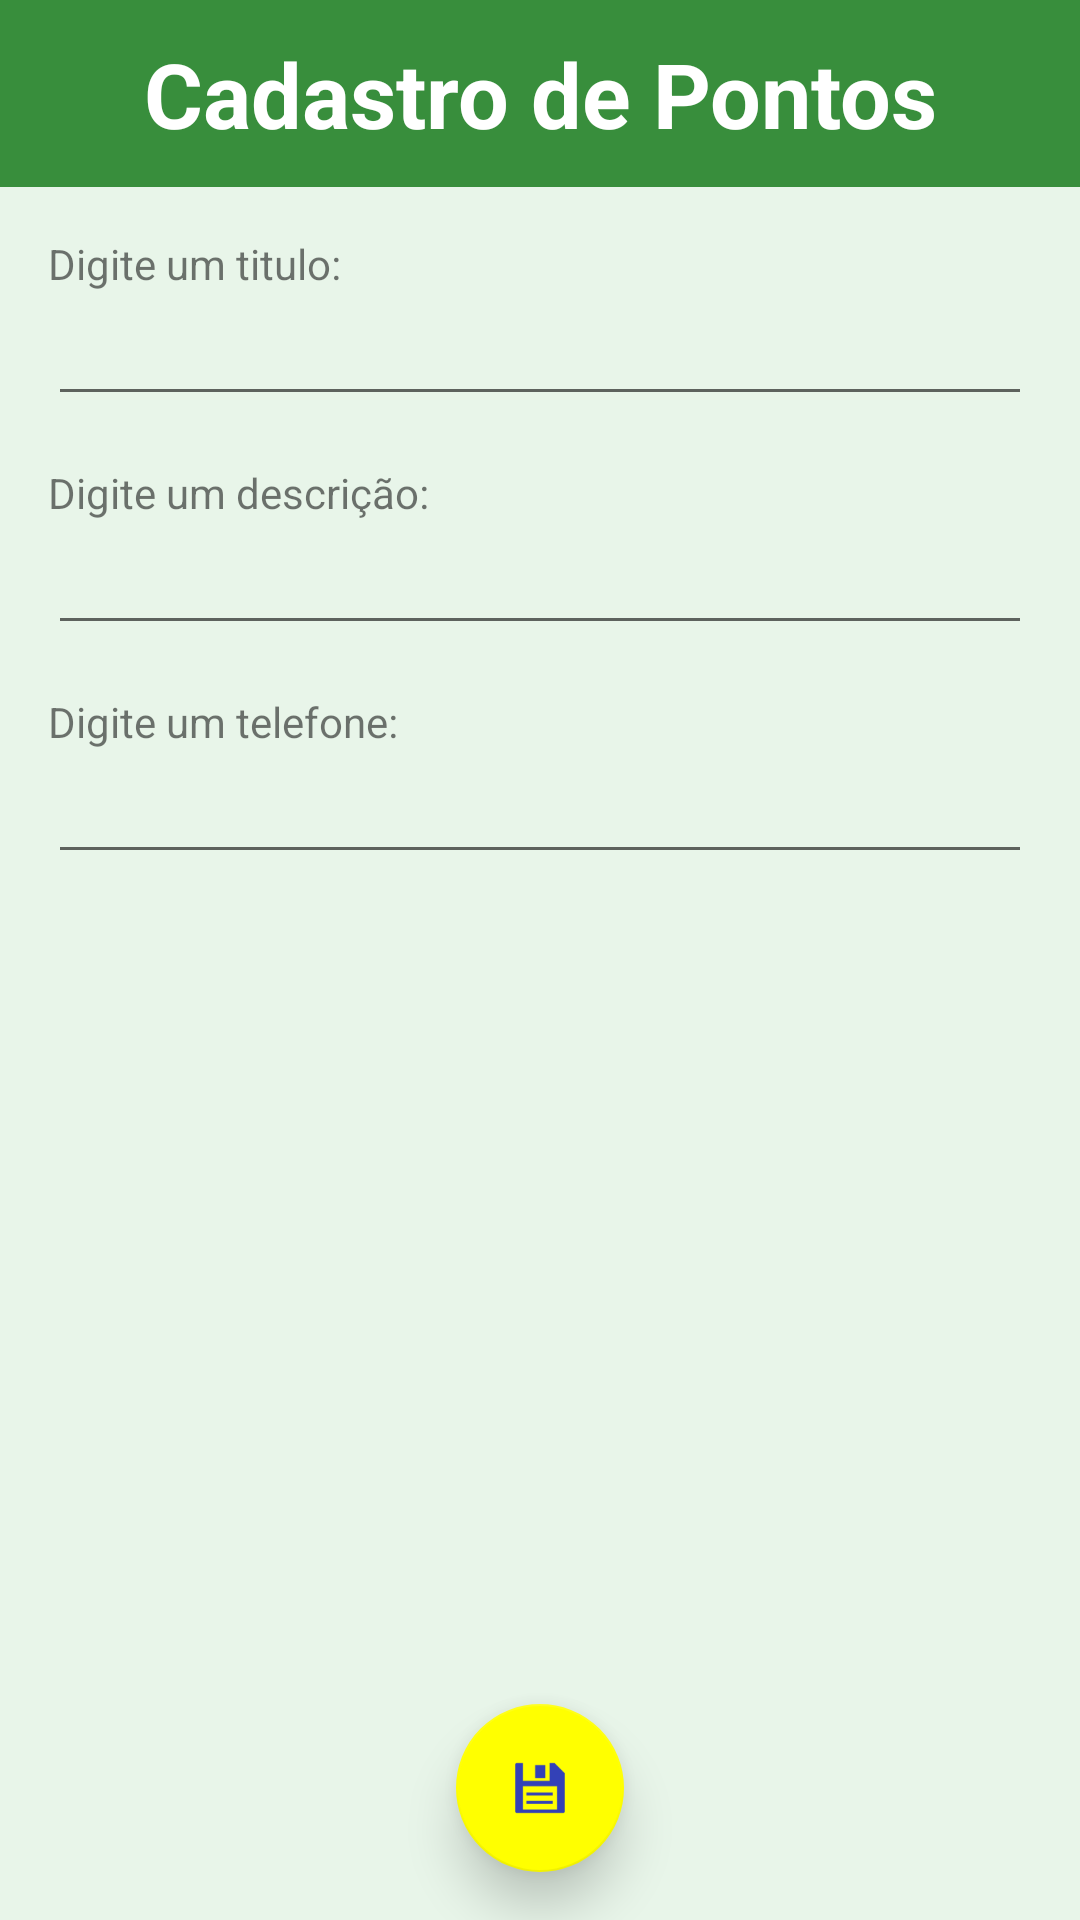

Locate icon controls on the screen. Image size 1080x1920, boxes as (x1, y1, x2, y2).
save: (456, 1704, 624, 1872)
